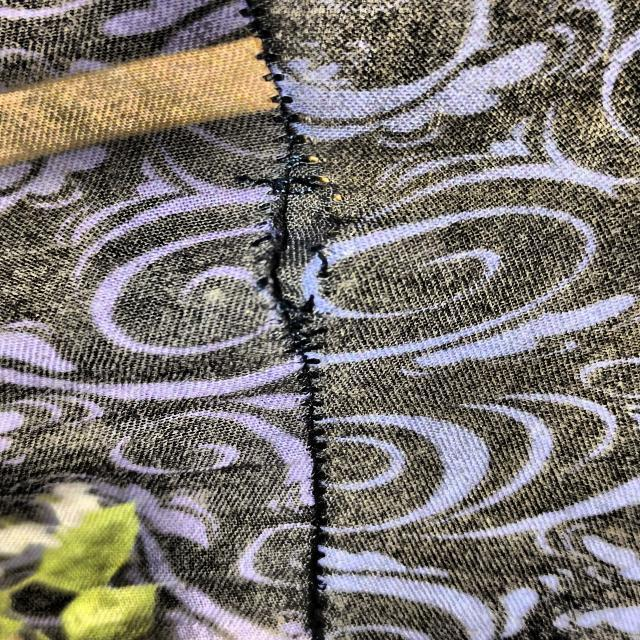gray stitch: (209, 144, 415, 438)
